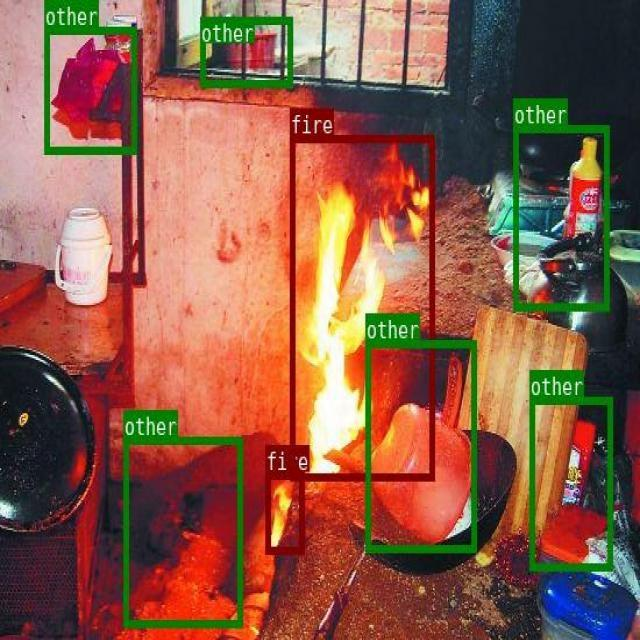fire: (290, 134, 434, 479), (265, 472, 303, 553)
